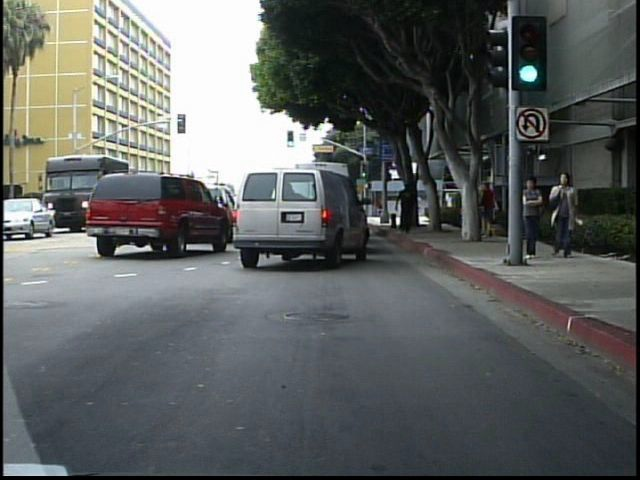person: (544, 170, 586, 263), (522, 173, 546, 267), (479, 173, 501, 243), (395, 181, 423, 236), (463, 174, 484, 247), (413, 185, 427, 222)
